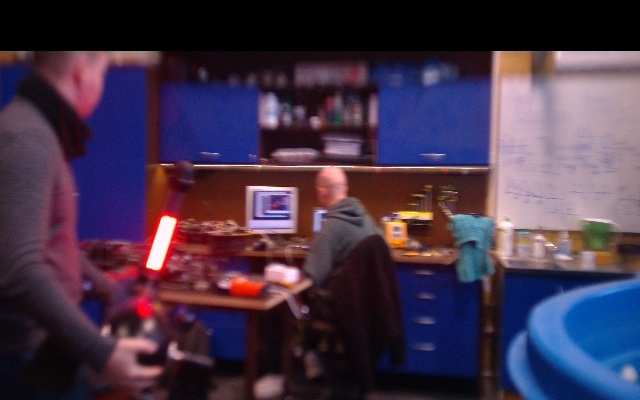red: (145, 215, 178, 271)
